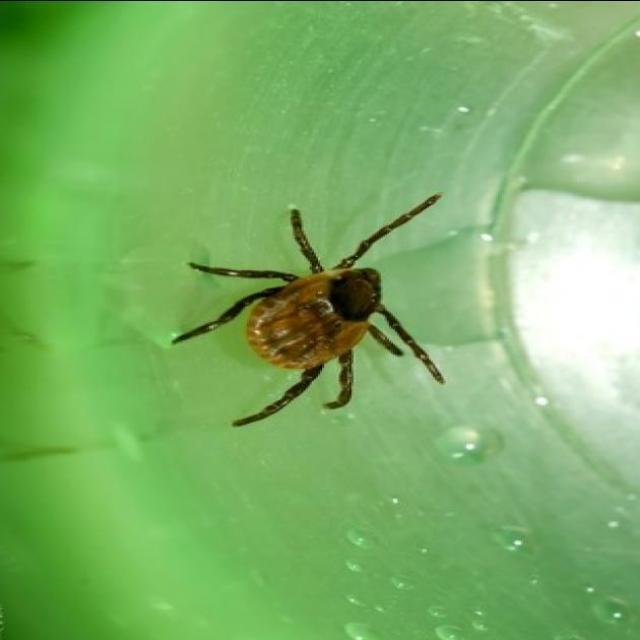Rhipicephalus Sanguineus-F: (176, 192, 446, 425)
